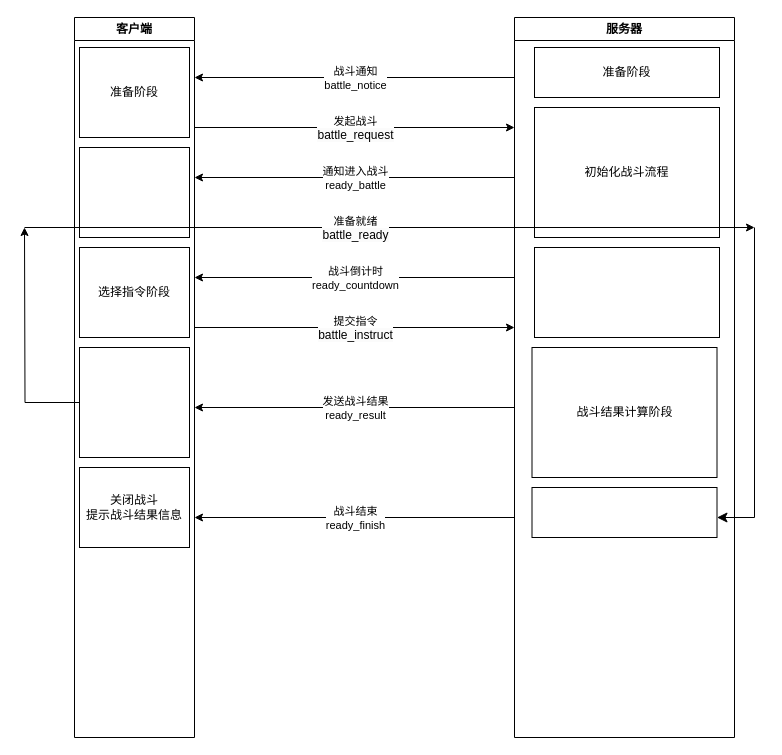
This 782x755 diagram has some shape labels left out. Here are the shapes that lost their labels. From the top down, the centre of each, then its label:
At [134,192]: "显示战斗 生成战斗单位".
At [627,292]: "指令收集阶段".
At [134,402]: "播放战斗动画".
At [624,512]: "战斗结束".
